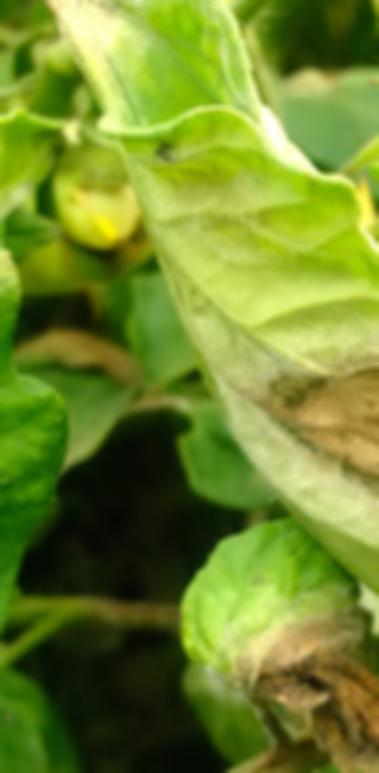Tomato leaf late blight: (21, 0, 379, 773), (165, 516, 379, 773)
